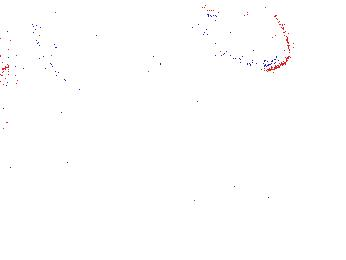moon jellyfish: (35, 6, 159, 93), (102, 1, 228, 59), (193, 1, 291, 72)
